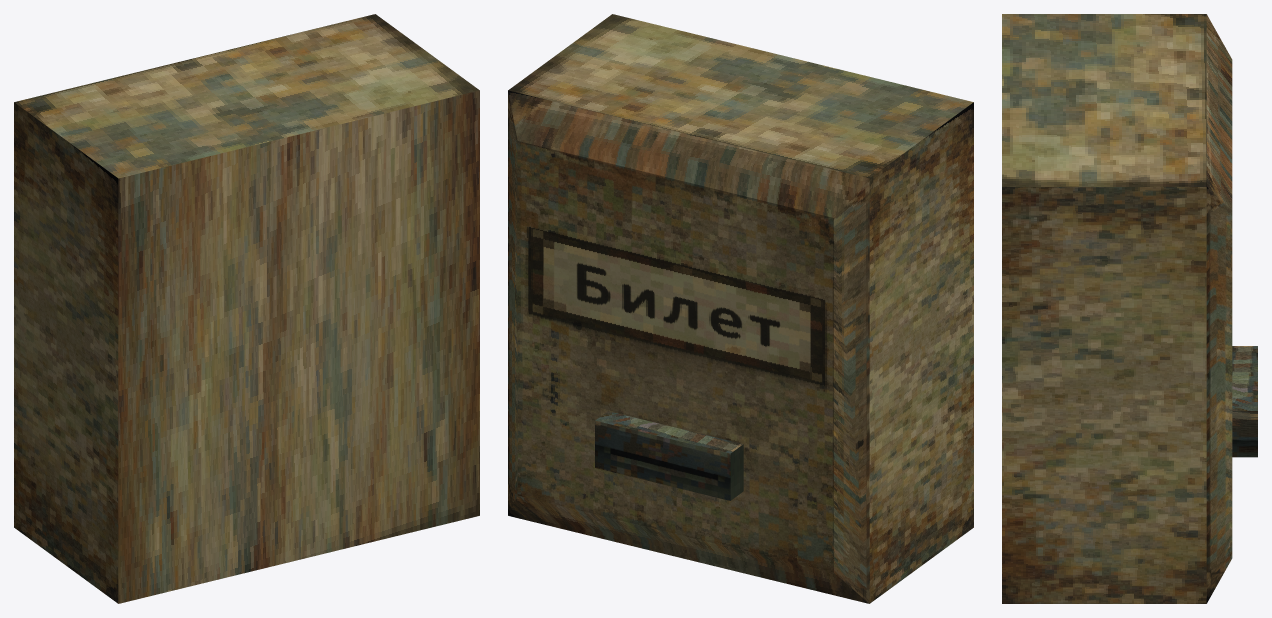
The model's file is bilet.glb.
The picture shows the model from 3 angles, left to right: view 1: azimuth 30°, elevation 25°; view 2: azimuth 150°, elevation 25°; view 3: azimuth 270°, elevation 25°; orthographic projection. The views are drawn at different scales.
Visible parts, largest first — view 1: mesh; view 2: mesh (×2); view 3: mesh (×2).
Boxes of the visible parts, x1,y1,x2,y2 form: mesh: [14, 14, 479, 603]; mesh (×2): [508, 14, 973, 603]; mesh (×2): [1002, 14, 1257, 603].
Size of the model in its own units: 1 by 1.12 by 0.625.
2 materials, 2 textured.
